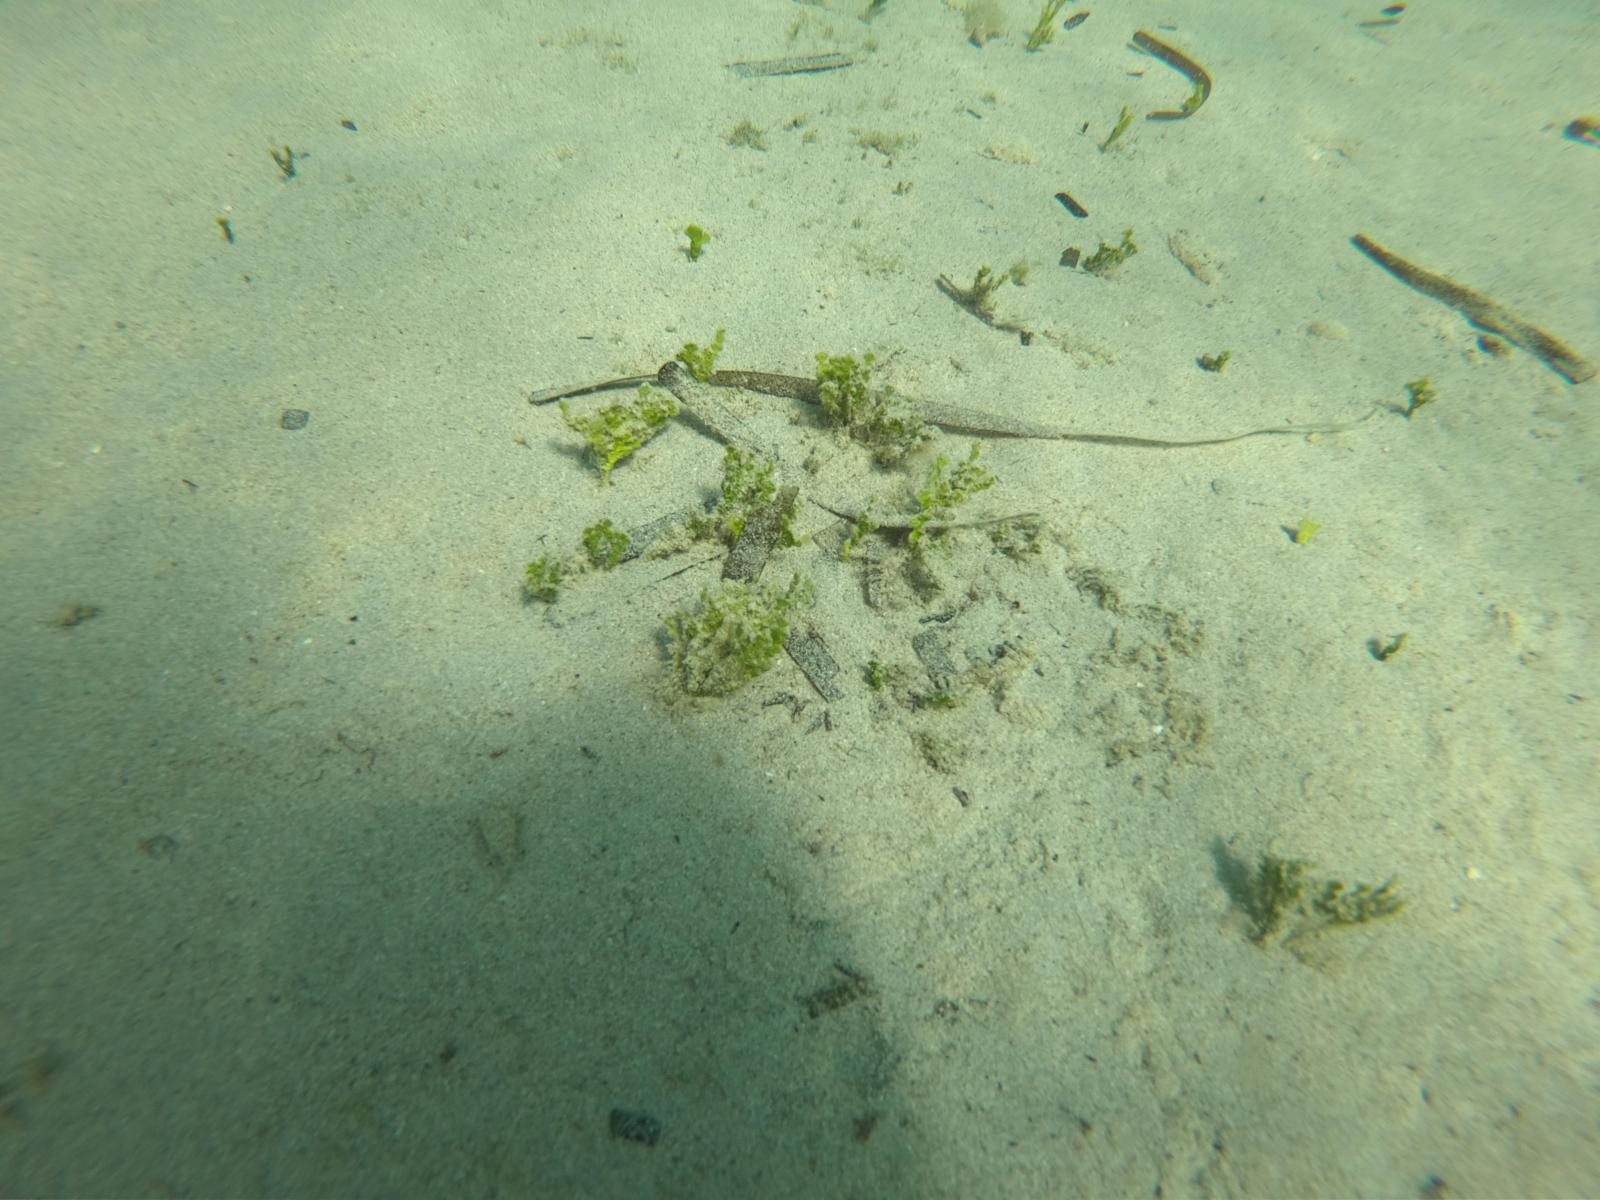halimeda: (666, 579, 794, 702), (1256, 848, 1385, 958), (558, 384, 677, 482), (910, 445, 997, 539), (702, 447, 785, 539), (820, 350, 871, 441), (582, 513, 632, 572), (837, 499, 881, 558), (675, 329, 724, 382), (1083, 233, 1139, 274), (527, 550, 564, 603), (1028, 3, 1063, 52), (965, 265, 995, 320), (1104, 105, 1129, 158), (866, 655, 902, 689), (1374, 629, 1407, 666), (1406, 379, 1432, 418), (684, 221, 708, 263), (911, 689, 957, 711), (1290, 523, 1304, 551)
